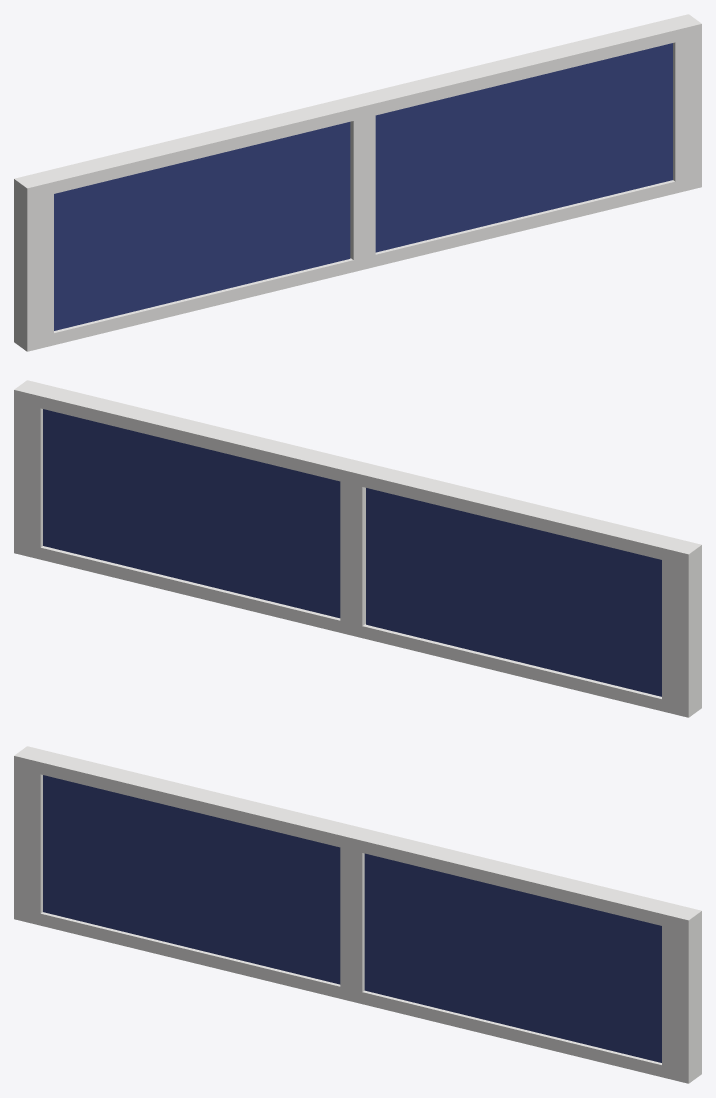
Rendered from Window_18.fbx.
3 views of the same model, one above another, from view 1: azimuth 30°, elevation 25°; view 2: azimuth 150°, elevation 25°; view 3: azimuth 330°, elevation 25° (orthographic).
Parts seen in each view (by area): view 1: Window_18; view 2: Window_18; view 3: Window_18.
Boxes of the visible parts, bbox=[...] form: Window_18: bbox=[14, 14, 701, 351]; Window_18: bbox=[14, 380, 701, 717]; Window_18: bbox=[14, 746, 701, 1083].
Bounding box in the file's own units: 352 × 11.97 × 81.55.
